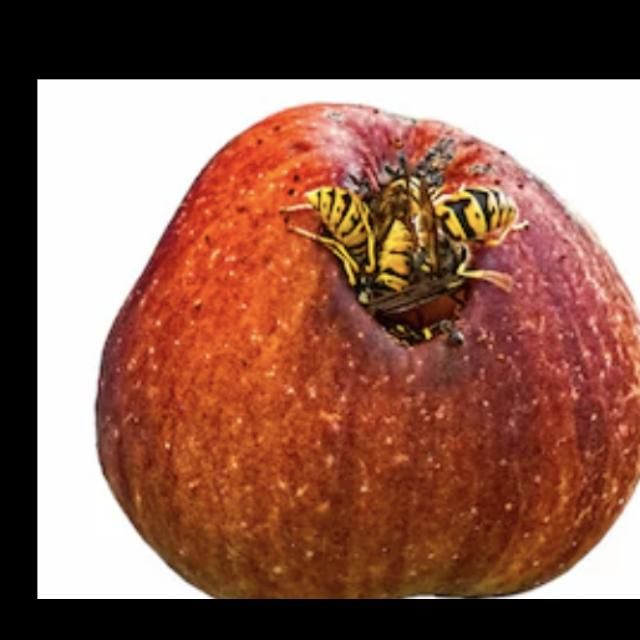Apel Tidak Segar: (55, 94, 640, 598)
